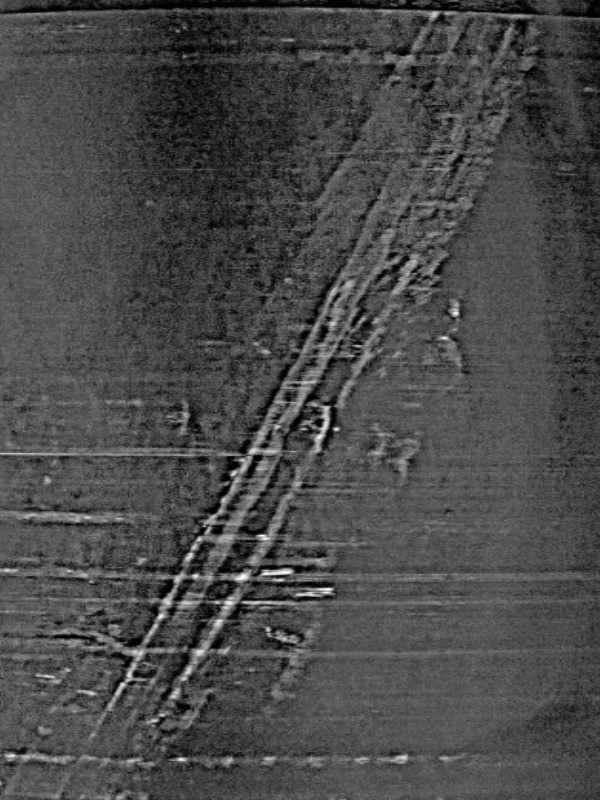splice_vulcanized: (15, 18, 544, 800)
